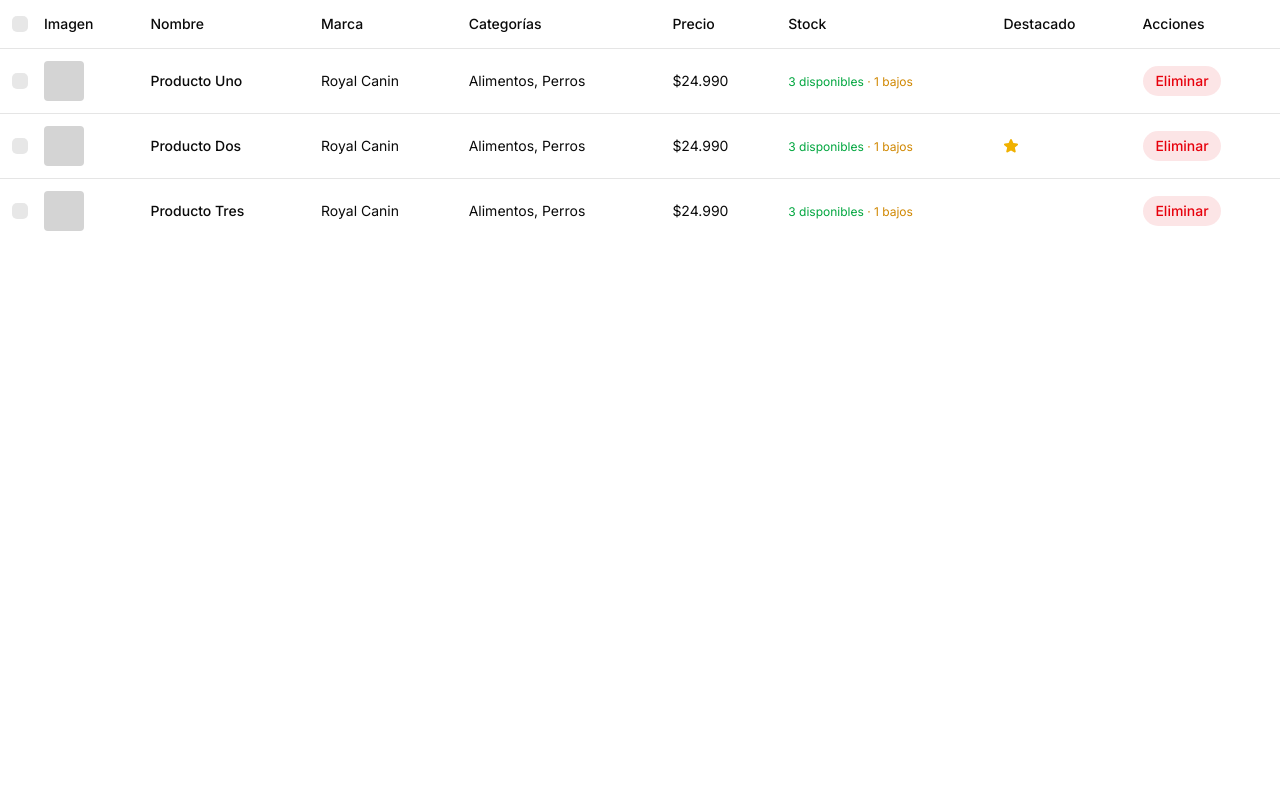
Test: ProductListClient › clicking delete opens a dialog with the product name
# Find a per-row delete button (not the bulk one)
Click the button "Eliminar" in the row of "Producto Uno". click: (1182, 80)
box: [1142, 64, 1222, 96]
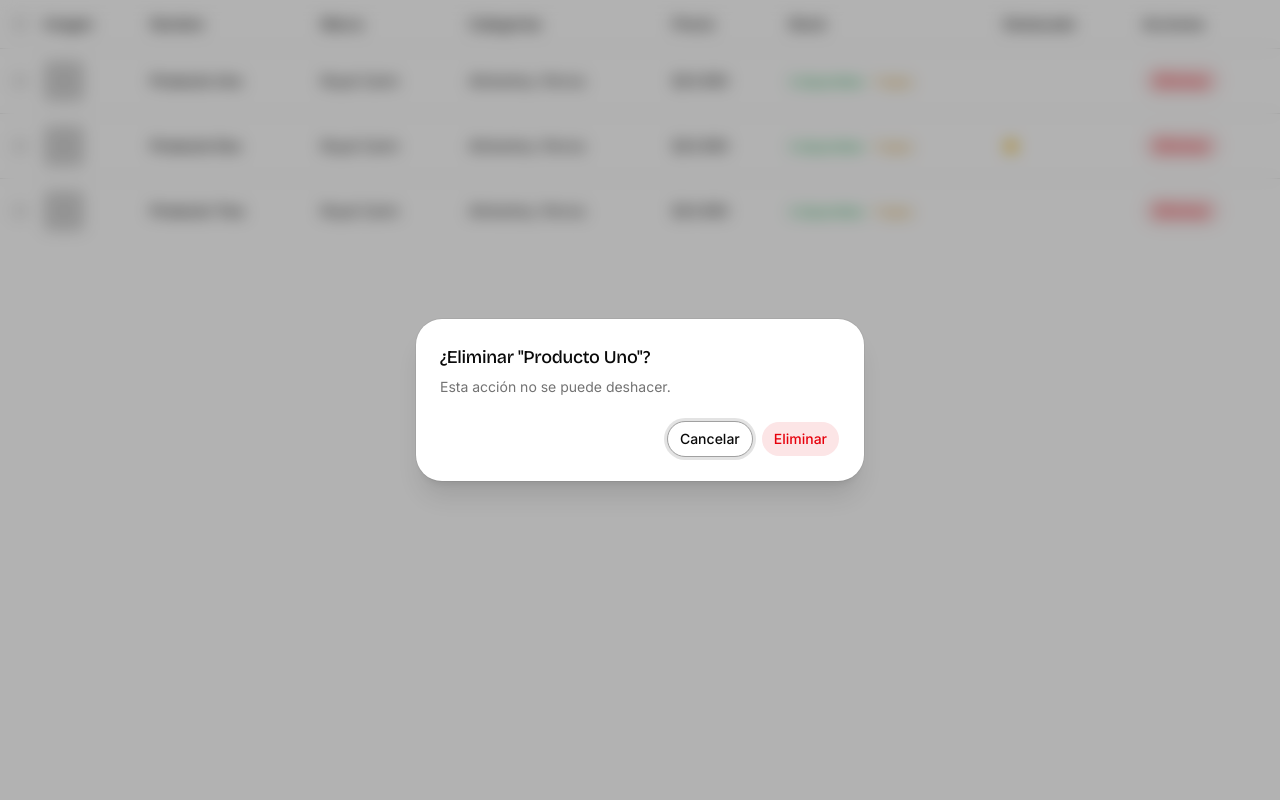
Expected: the dialog is shown, [416, 319, 864, 481]
